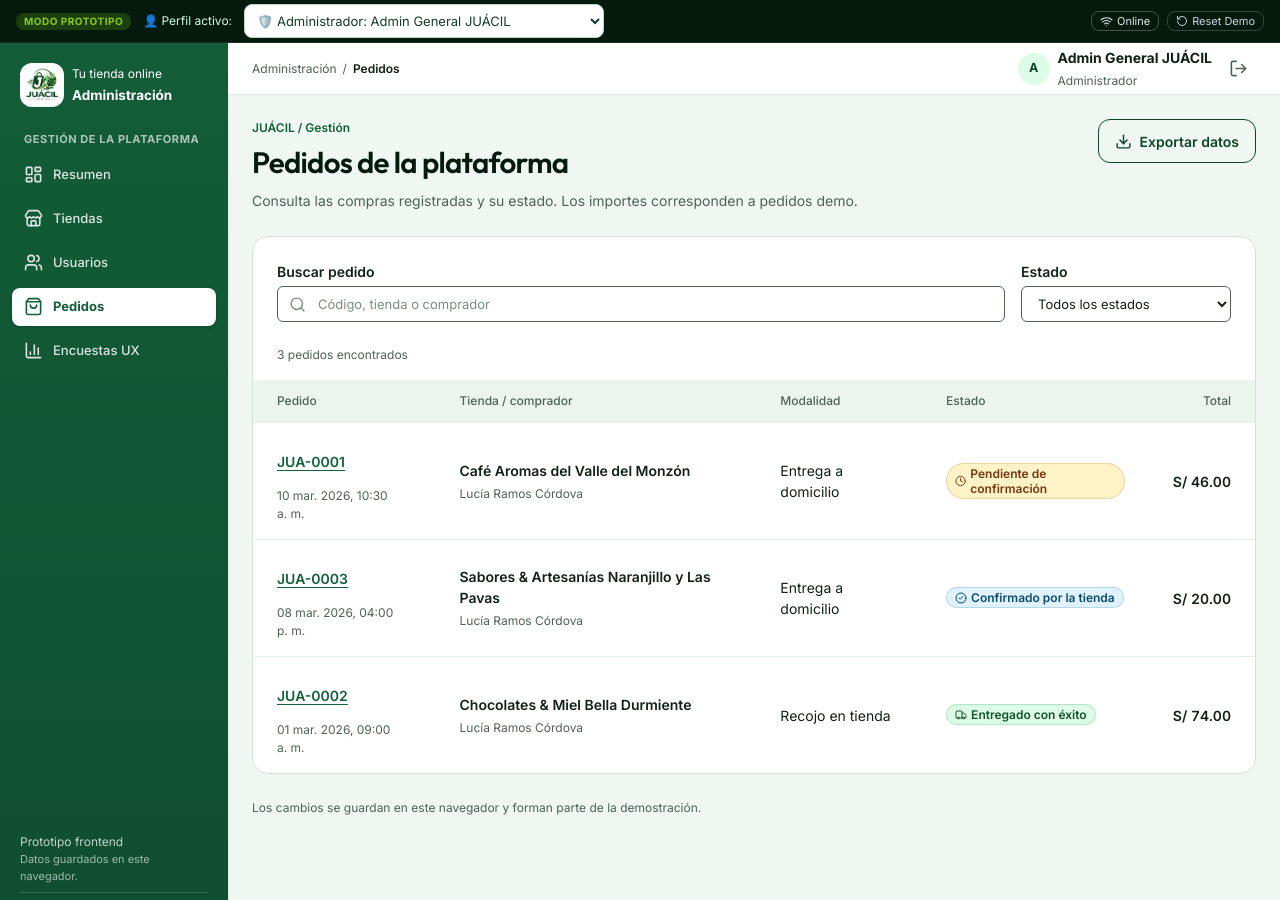
Administración de JUÁCIL › muestra importes históricos al abrir el detalle del pedido
Click the button "JUA-0001".
click(311, 461)  # box [277,439,345,483]
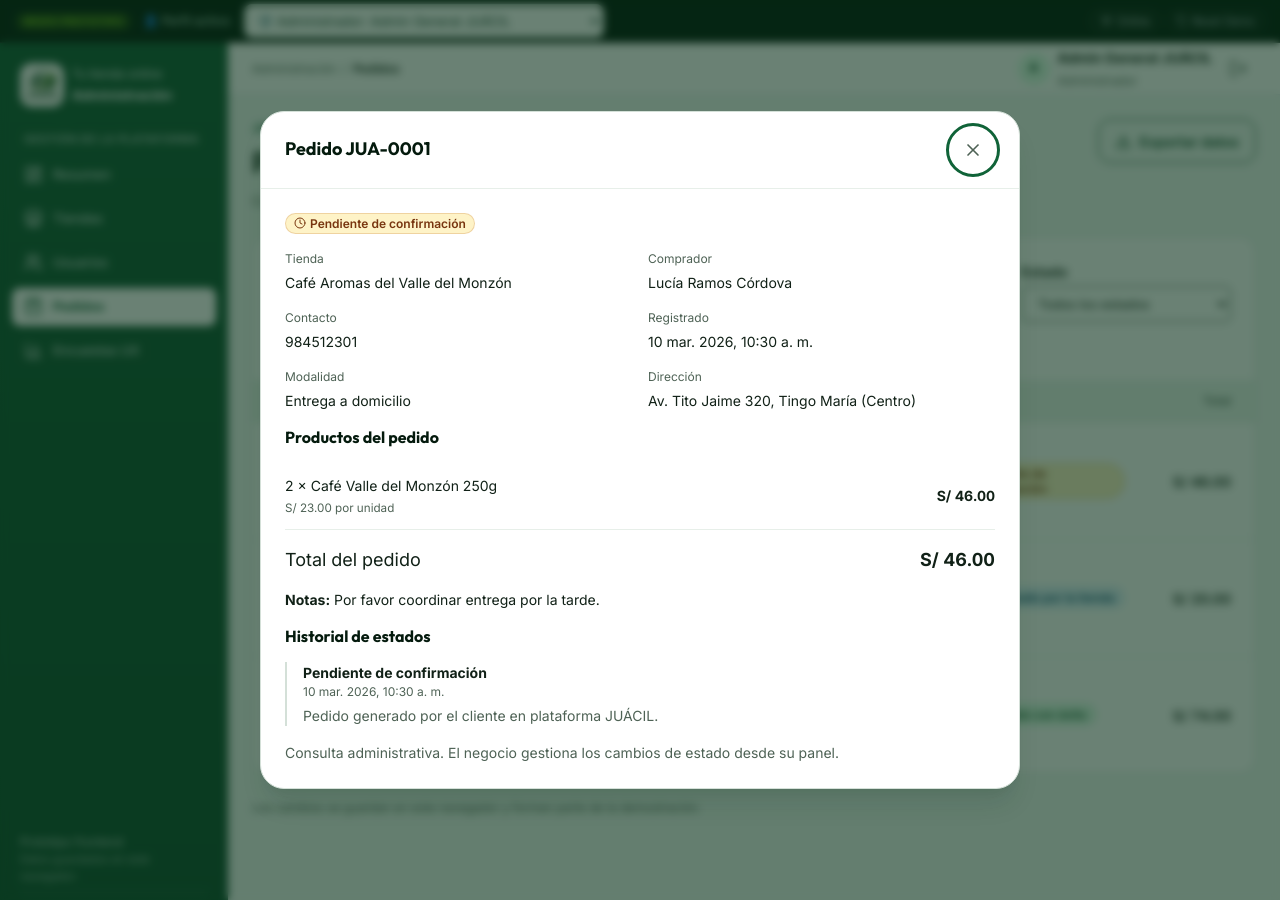
Now the text "Café Valle del Monzón 250g" is shown, box [311,476,497,494]
Now the heading "Historial de estados" is shown, box [285,626,431,646]
